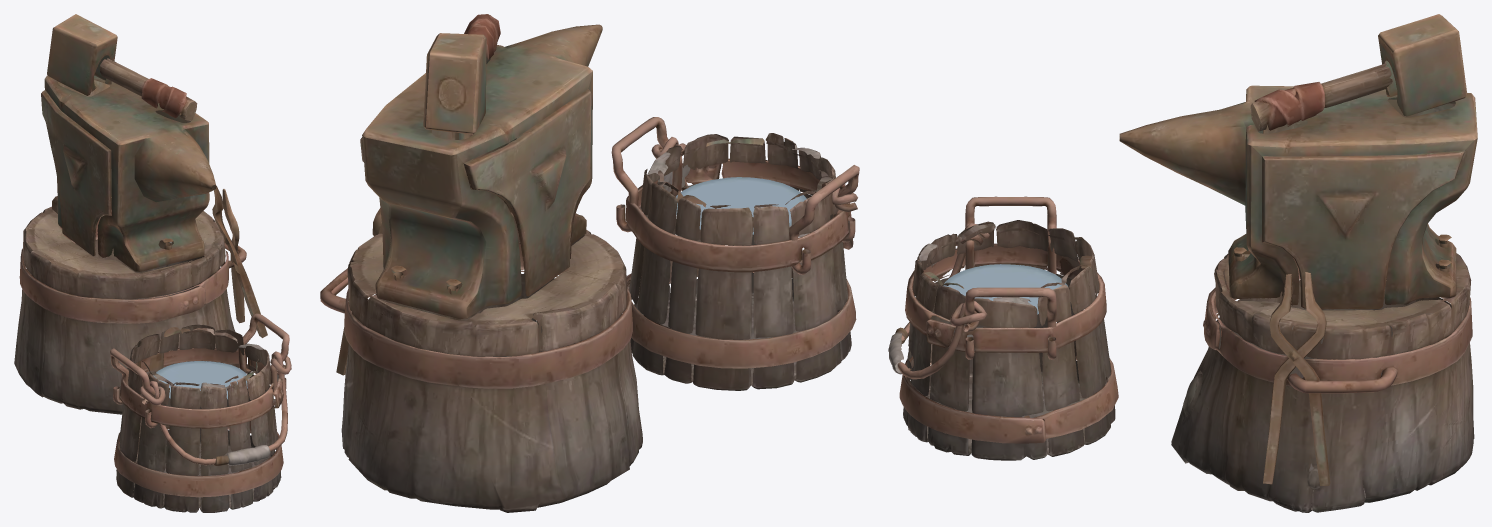
3 views of the same model, side by side, from view 1: azimuth 30°, elevation 25°; view 2: azimuth 150°, elevation 25°; view 3: azimuth 270°, elevation 25° (orthographic). The views are drawn at different scales.
Visible parts, largest first — view 1: SM_Smithing_Anvil_01_LOD0; view 2: SM_Smithing_Anvil_01_LOD0; view 3: SM_Smithing_Anvil_01_LOD0.
Boxes of the visible parts, x1,y1,x2,y2 form: SM_Smithing_Anvil_01_LOD0: [14, 14, 291, 512]; SM_Smithing_Anvil_01_LOD0: [320, 14, 859, 512]; SM_Smithing_Anvil_01_LOD0: [888, 14, 1477, 512].
Size of the model in its own units: 0.7548 by 0.9718 by 1.24.
Materials: 1 (1 with a texture image).
